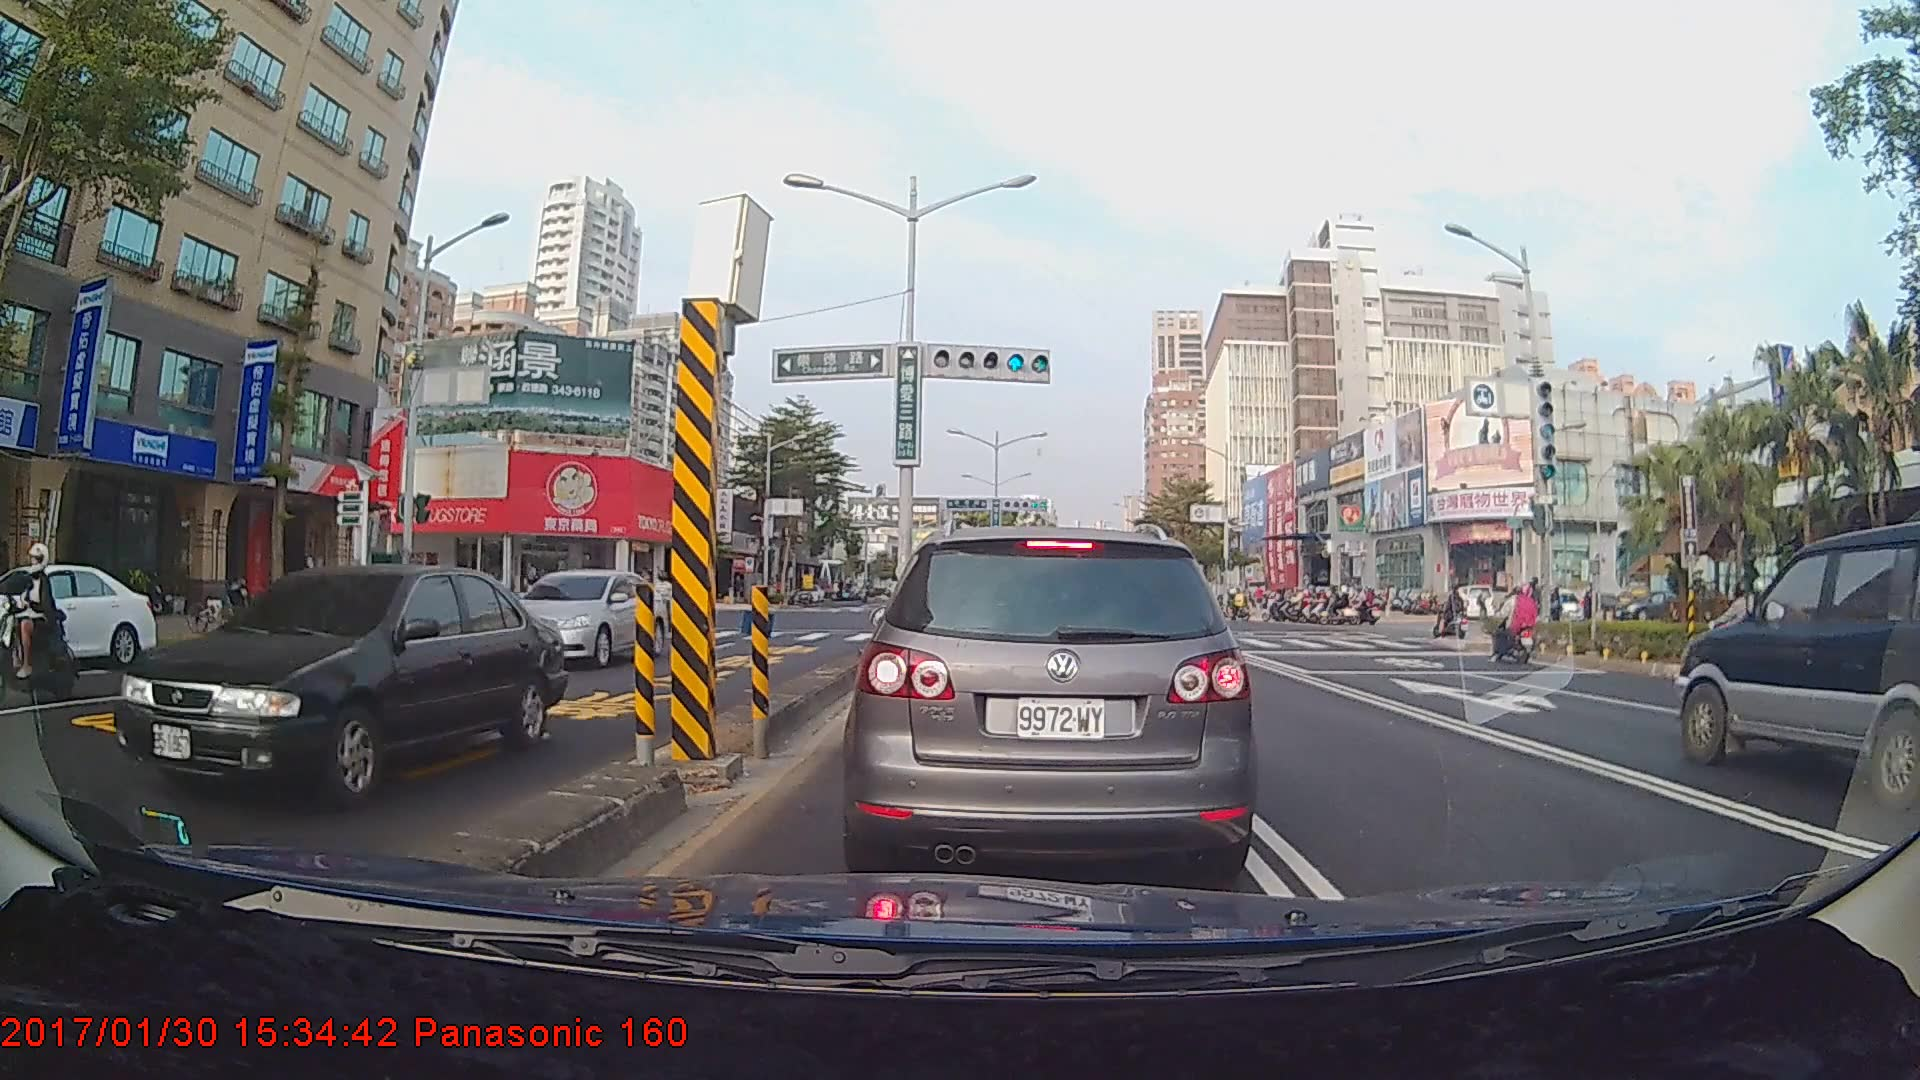rider: (1, 538, 80, 714), (1485, 582, 1548, 668), (1436, 582, 1473, 646)
vehicle: (853, 522, 1252, 876), (111, 562, 568, 807), (1672, 519, 1920, 802), (0, 561, 157, 671), (498, 568, 671, 669)
